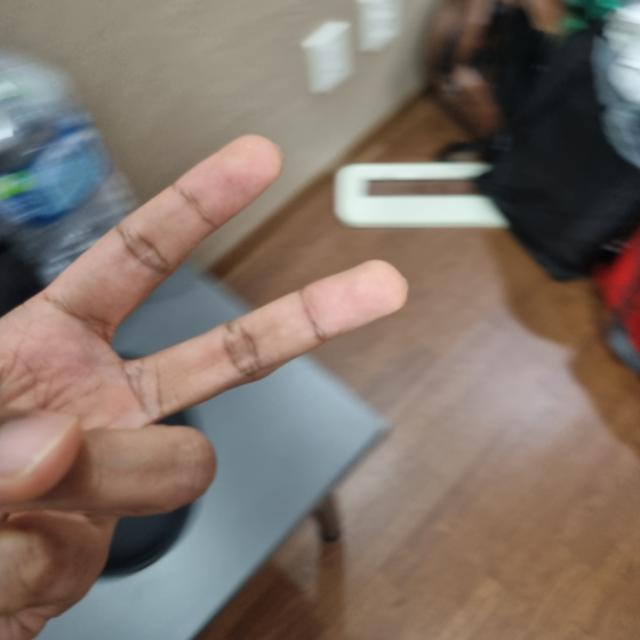Scissors: (0, 136, 404, 638)
